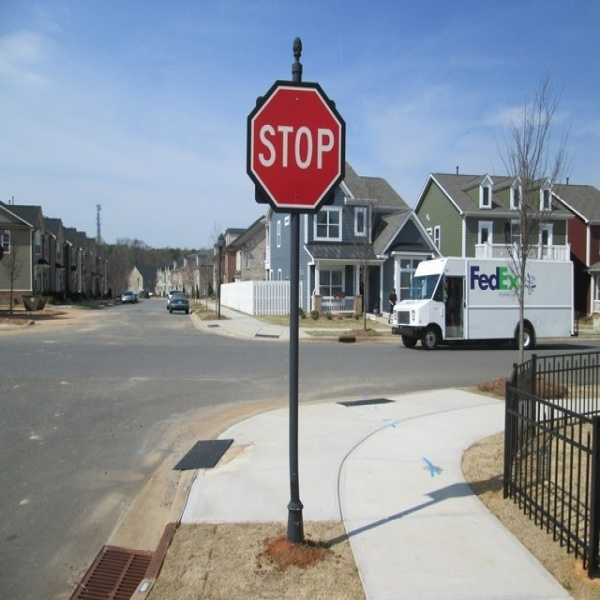stop: (253, 75, 347, 210)
